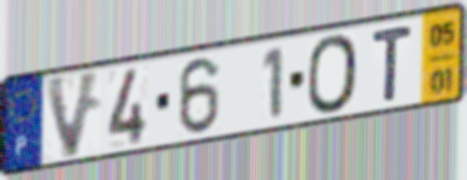1: (259, 44, 286, 121)
4: (105, 65, 150, 148)
6: (175, 54, 223, 137)
O: (306, 31, 361, 116)
T: (370, 22, 416, 104)
V: (42, 67, 105, 163)
